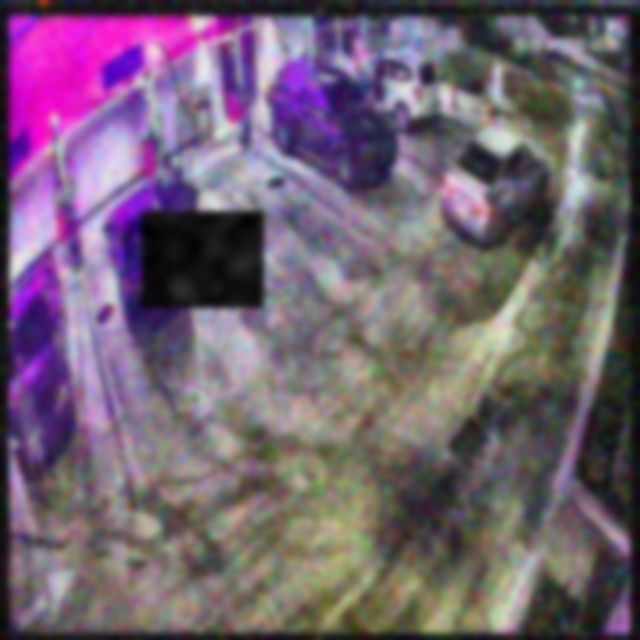Car: (268, 56, 399, 186), (101, 172, 195, 326), (440, 125, 550, 246)
